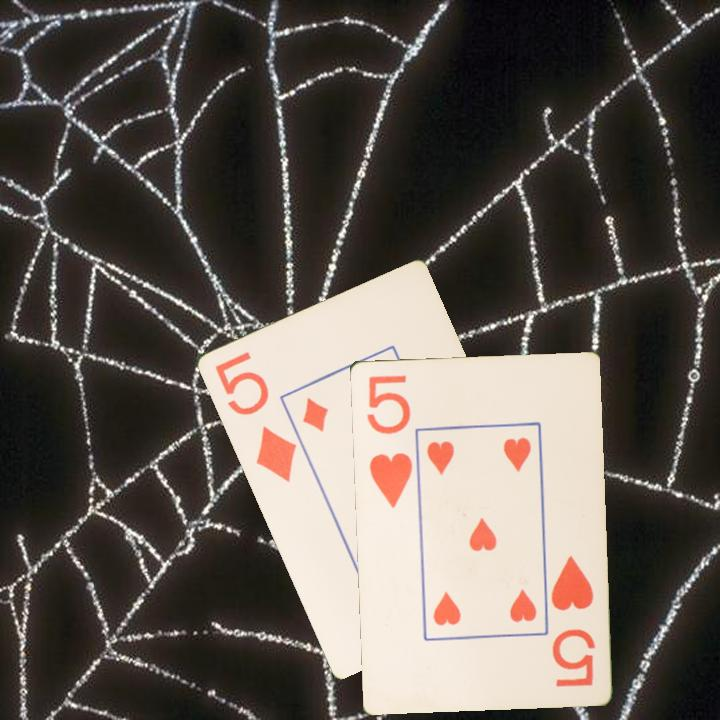5d: (210, 347, 299, 486)
5h: (362, 371, 415, 511), (546, 552, 598, 689)
